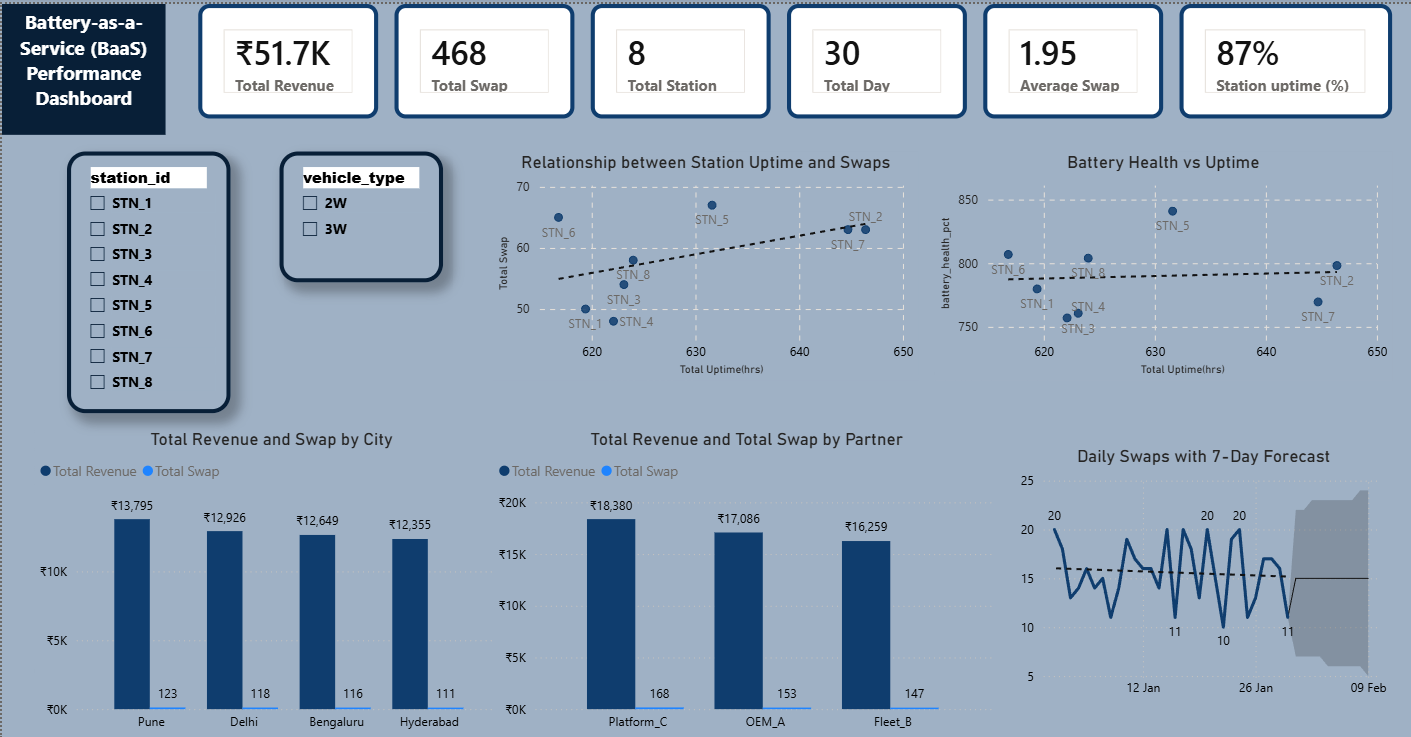

The page's visual inventory and layout, read from the dashboard file:
{"tool":"powerbi","page":{"name":"Page 1","canvas":[1381,720],"ordinal":0},"visuals":[{"type":"clusteredColumnChart","title":"Total Revenue and Swap by City","fields":{"Category":["City_dim.city"],"Y":["Measures (2).Total Revenue","Measures (2).Total Swap"]},"box":[32,416,464,304],"z":0},{"type":"cardVisual","fields":{"Data":["Measures (2).Total Revenue"]},"box":[192,0,176,112],"z":1000},{"type":"cardVisual","fields":{"Data":["Measures (2).Total Swap"]},"box":[384,0,176,112],"z":2000},{"type":"clusteredColumnChart","title":"Total Revenue and Total Swap by Partner","fields":{"Category":["Partner_dim.partner"],"Y":["Measures (2).Total Revenue","Measures (2).Total Swap"]},"box":[480,416,496,304],"z":3000},{"type":"cardVisual","fields":{"Data":["Measures (2).Total Station"]},"box":[576,0,176,112],"z":4000},{"type":"cardVisual","fields":{"Data":["Measures (2).Total Day"]},"box":[768,0,176,112],"z":5000},{"type":"cardVisual","fields":{"Data":["Measures (2).Average Swap"]},"box":[960,0,176,112],"z":6000},{"type":"cardVisual","fields":{"Data":["Measures (2).Station uptime (%)"]},"box":[1152,0,208,112],"z":7000},{"type":"scatterChart","title":"Relationship between Station Uptime and Swaps","fields":{"X":["Measures (2).Total Uptime"],"Y":["Measures (2).Total Swap"],"Category":["Station_dim.station_id"]},"box":[480,144,416,224],"z":8000},{"type":"scatterChart","title":"Battery Health vs Uptime","fields":{"X":["Measures (2).Total Uptime"],"Category":["Station_dim.station_id"],"Y":["Sum(battery_inventory_fact.battery_health_pct)"]},"box":[912,144,448,224],"z":9000},{"type":"lineChart","title":"Daily Swaps with 7-Day Forecast","fields":{"Y":["Measures (2).Total Swap"],"Category":["Date_Dim.Date"]},"box":[992,432,368,256],"z":10000},{"type":"slicer","fields":{"Values":["Station_dim.station_id"]},"box":[64,144,160,256],"z":11000},{"type":"textbox","box":[0,0,160,128],"z":12000},{"type":"slicer","fields":{"Values":["Vehicle_dim.vehicle_type"]},"box":[272,144,160,128],"z":13000}]}

Visuals, with their boxes in screenshot pixels (x1, y1, x2, y2), scaled from the page's 1381x720 canvas onto the 1411x737 screenshot:
"Total Revenue and Swap by City" clusteredColumnChart: (33,426,507,736)
cardVisual - Measures (2).Total Revenue: (196,0,376,115)
cardVisual - Measures (2).Total Swap: (392,0,572,115)
"Total Revenue and Total Swap by Partner" clusteredColumnChart: (490,426,997,736)
cardVisual - Measures (2).Total Station: (589,0,768,115)
cardVisual - Measures (2).Total Day: (785,0,965,115)
cardVisual - Measures (2).Average Swap: (981,0,1161,115)
cardVisual - Measures (2).Station uptime (%): (1177,0,1390,115)
"Relationship between Station Uptime and Swaps" scatterChart: (490,147,915,377)
"Battery Health vs Uptime" scatterChart: (932,147,1390,377)
"Daily Swaps with 7-Day Forecast" lineChart: (1014,442,1390,704)
slicer - Station_dim.station_id: (65,147,229,409)
textbox: (0,0,163,131)
slicer - Vehicle_dim.vehicle_type: (278,147,441,278)
